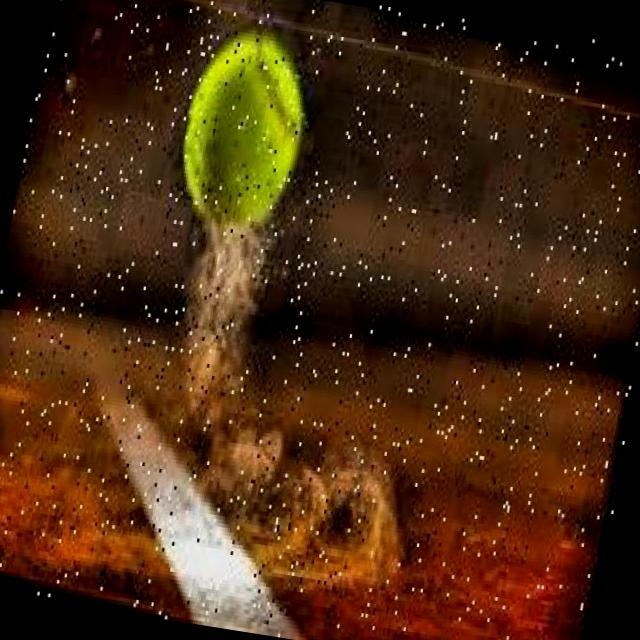Tennis Ball: (160, 17, 326, 250)
